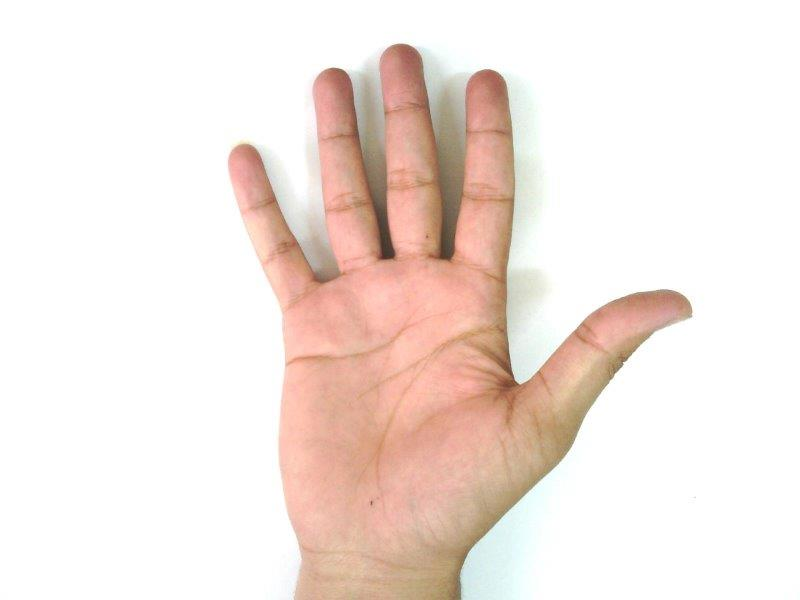hand: (228, 44, 692, 541)
